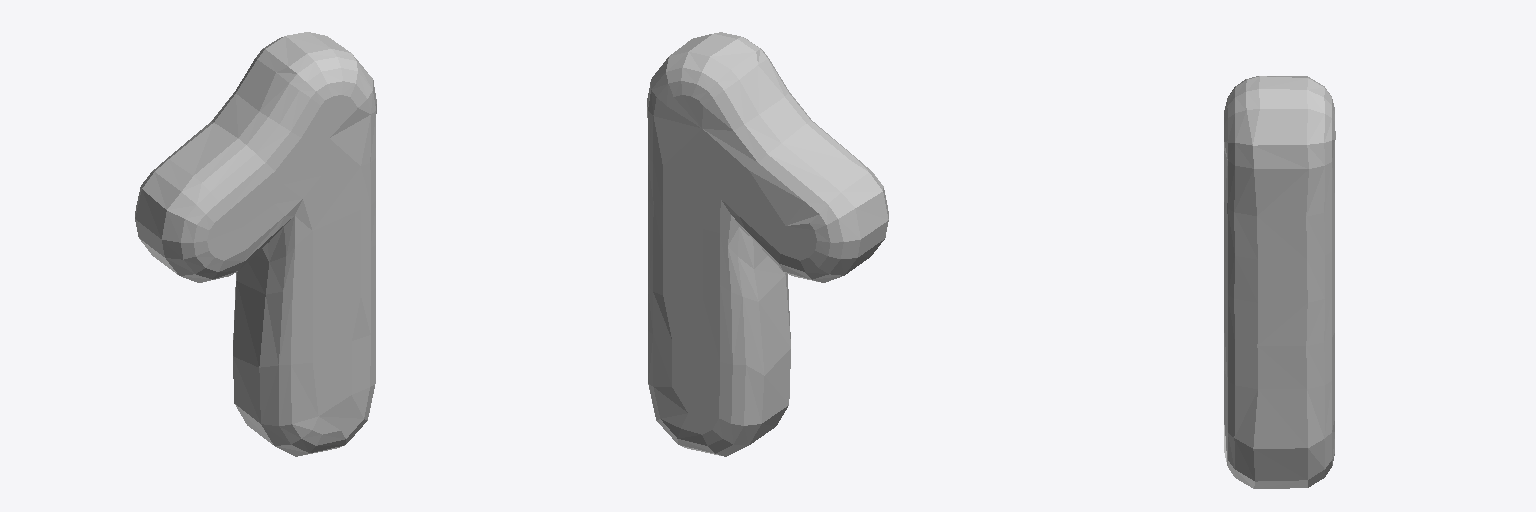
The model's file is n1-red75-d02.obj.
3 views of the same model, side by side, from view 1: azimuth 30°, elevation 25°; view 2: azimuth 150°, elevation 25°; view 3: azimuth 270°, elevation 25° (orthographic).
Size of the model in its own units: 0.5831 by 1.03 by 0.2618.